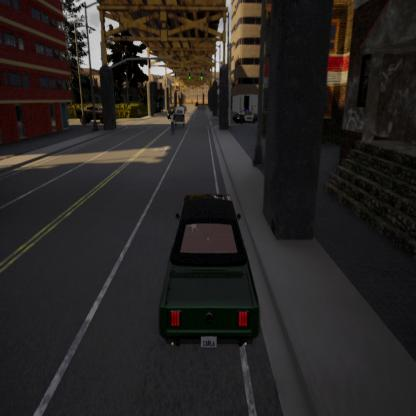Cars: (156, 186, 260, 358), (76, 101, 108, 124), (232, 106, 259, 126), (174, 104, 187, 128), (166, 103, 176, 121)
